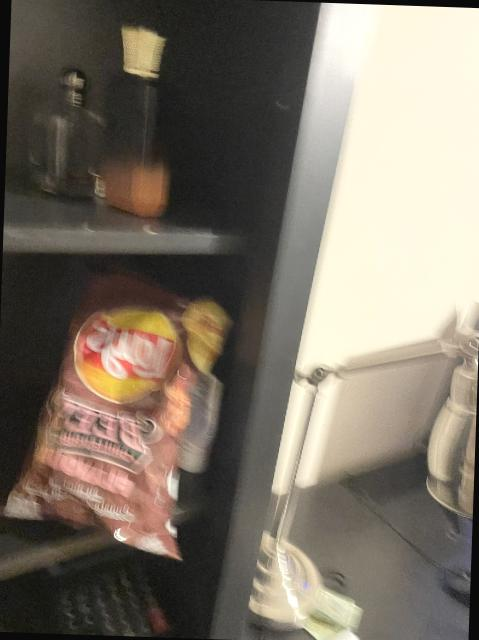Chio Cascaval 125g: (1, 267, 237, 558)
